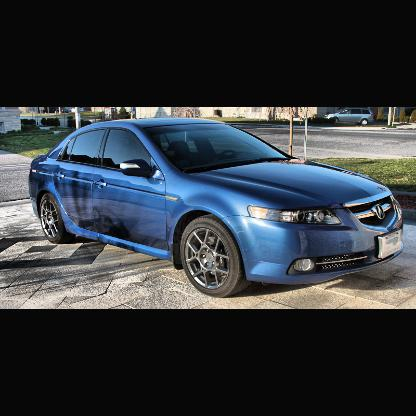Acura TL Type-S 2008: (30, 119, 404, 300)
